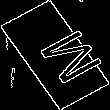M_SW: (16, 22, 94, 88)
